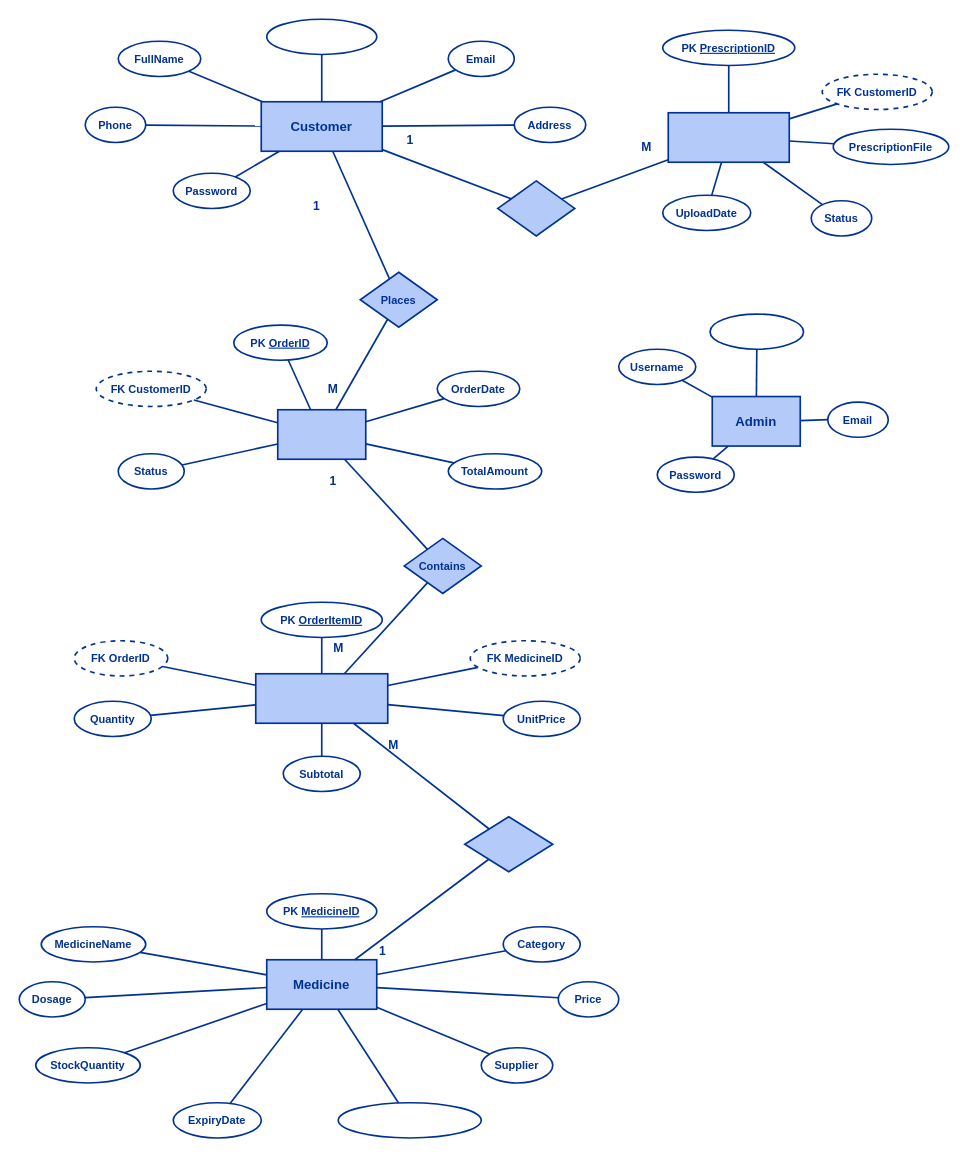
This 969x1158 diagram has some shape labels left out. Each missing label, with the centre of its shape:
Order: (321,434)
OrderItem: (321,698)
PK AdminID: (756,331)
PK CustomerID: (321,36)
Prescription: (728,137)
References: (508,843)
RequiresPrescription: (409,1119)
Uploads: (535,208)
